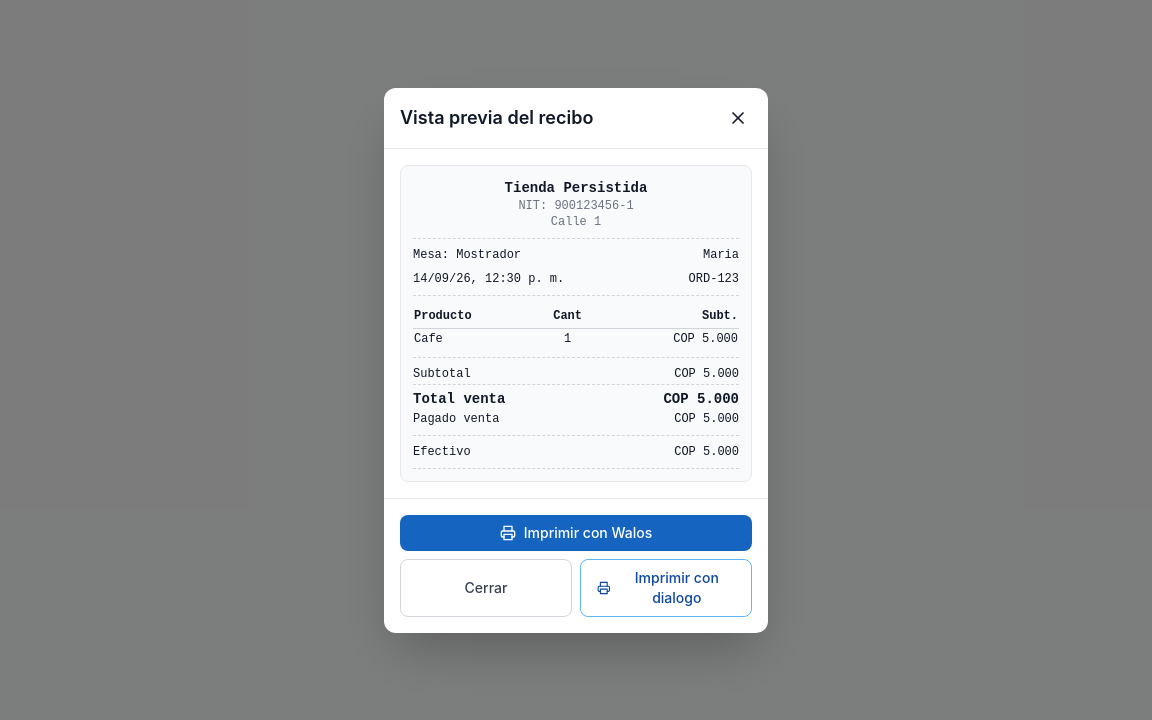
Test: ReceiptPreview impresion H2 › usa el ReceiptData obtenido por GET del recibo persistido al imprimir con el agente
Check: the text "Tienda Persistida" is shown, box [505,180,647,196]
Click the button "Imprimir con Walos".
click(576, 532)  # box [400,514,752,550]
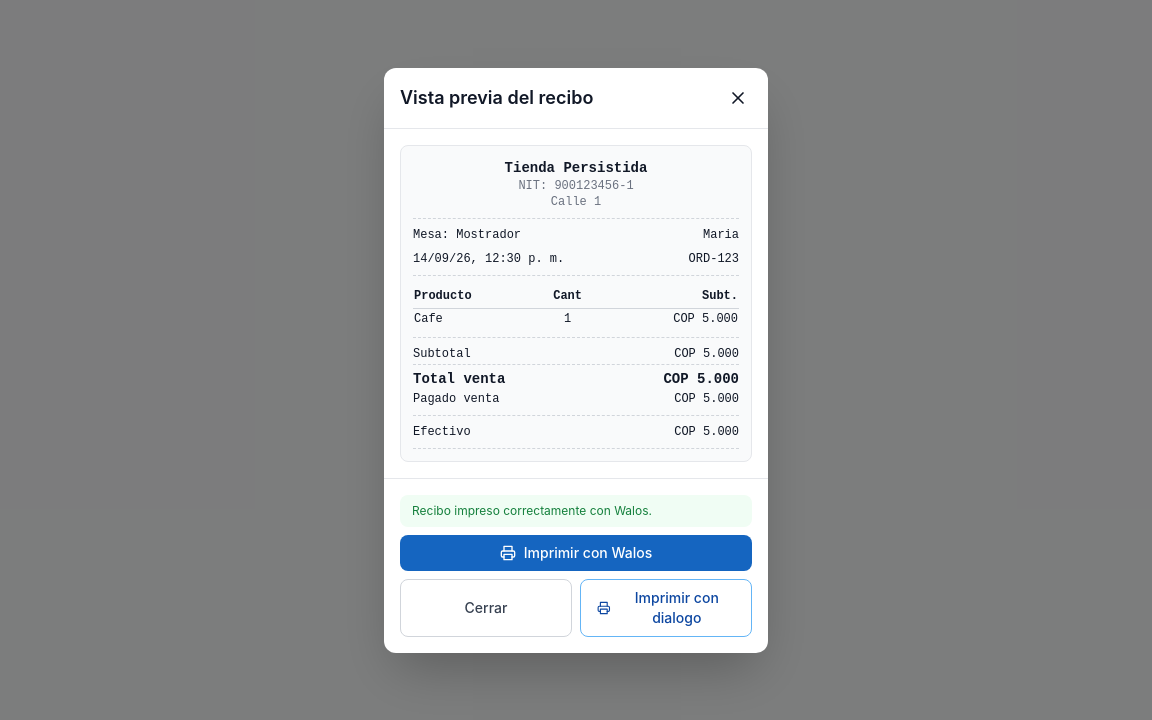
Check: the text "Recibo impreso correctamente con Walos." is shown, box [400,494,752,526]
